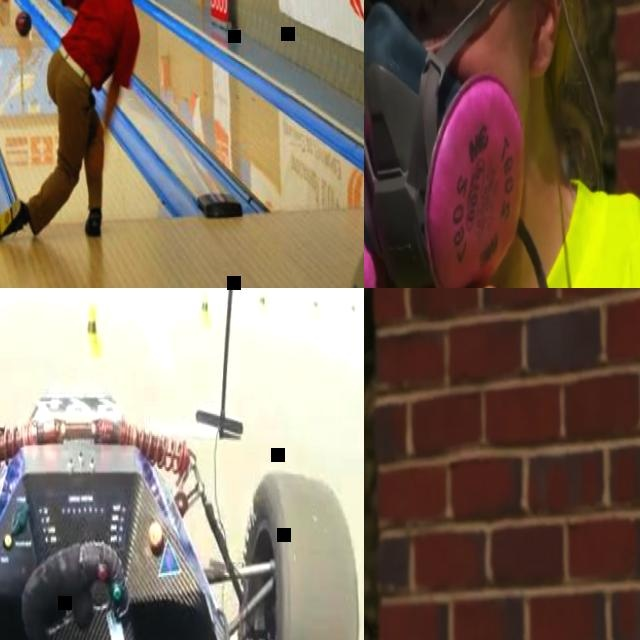Mask: (364, 1, 527, 288)
NO-Safety Vest: (364, 172, 640, 288), (59, 0, 133, 80)
Person: (364, 0, 640, 288), (364, 288, 530, 640), (0, 0, 153, 242)
Safety Cone: (76, 301, 107, 343), (188, 288, 213, 320), (296, 289, 324, 314), (256, 288, 267, 336)
vehicle: (0, 288, 364, 640)
